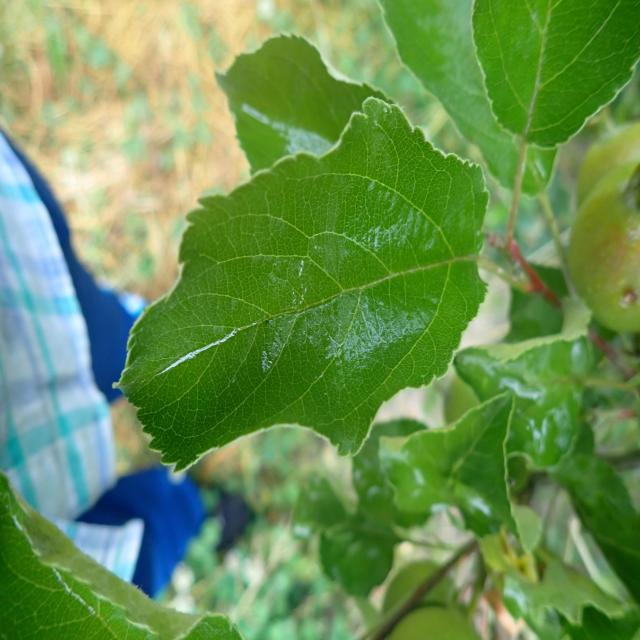healthy: (115, 96, 489, 474), (377, 1, 640, 194), (0, 468, 245, 640), (214, 32, 396, 173)
